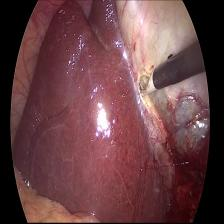Hook: (136, 70, 157, 98)
